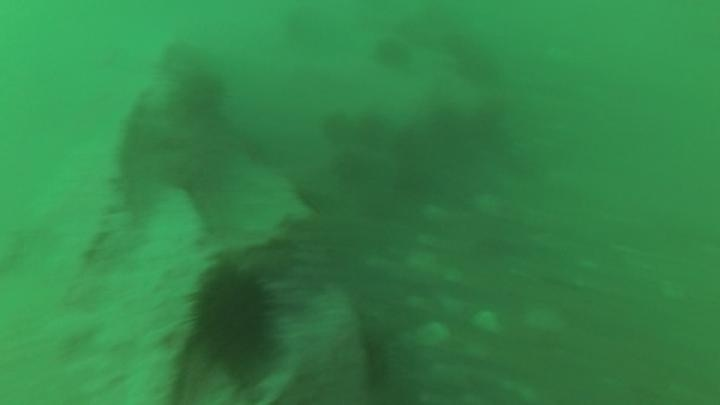echinus: (188, 263, 281, 374)
